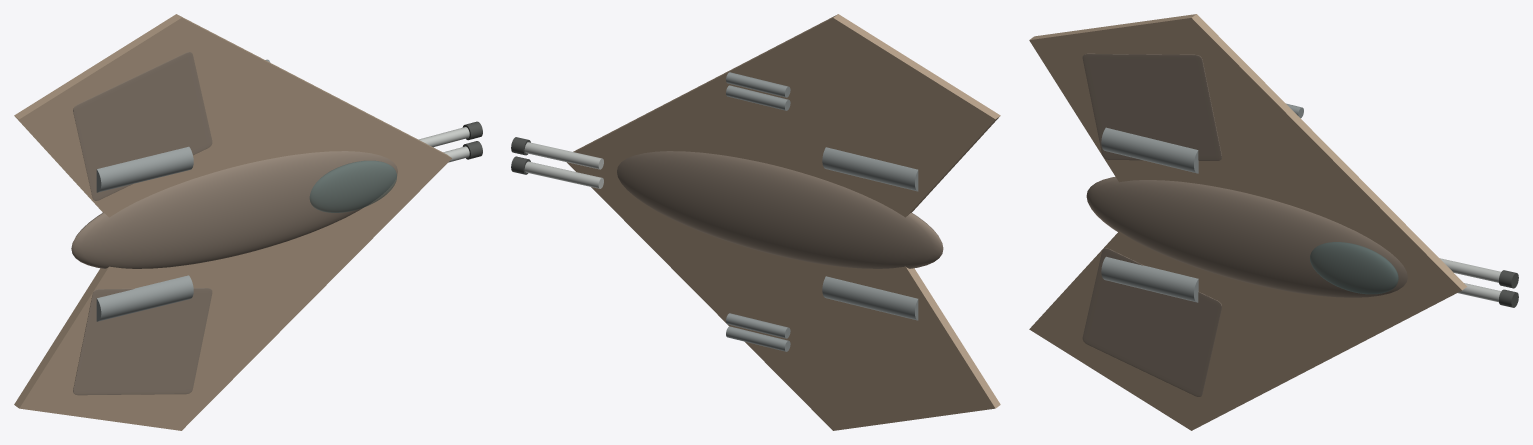
The model's file is d-u29-dominion-stealth-striker-lod1.glb.
The picture shows the model from 3 angles, left to right: view 1: azimuth 30°, elevation 25°; view 2: azimuth 150°, elevation 25°; view 3: azimuth 330°, elevation 25°; orthographic projection.
Parts seen in each view (by area): view 1: flying_wing_planform, flying_wing_core, flying_wing_elevon_1, flying_wing_elevon_-1, flying_wing_canopy, flying_wing_engine_0, flying_wing_engine_1, flying_wing_gun_barrel_1; view 2: flying_wing_planform, flying_wing_core, flying_wing_engine_1, flying_wing_engine_0, flying_wing_gun_barrel_0, flying_wing_gun_barrel_1, flying_wing_-1_tube_1, flying_wing_1_tube_1, flying_wing_-1_tube_2, flying_wing_1_tube_2; view 3: flying_wing_planform, flying_wing_core, flying_wing_elevon_1, flying_wing_elevon_-1, flying_wing_canopy, flying_wing_engine_0, flying_wing_engine_1, flying_wing_gun_barrel_1.
Boxes of the visible parts, left/top/right/bottom form: flying_wing_planform: left=14, top=14, right=451, bottom=430; flying_wing_core: left=71, top=151, right=397, bottom=268; flying_wing_elevon_1: left=73, top=52, right=212, bottom=200; flying_wing_elevon_-1: left=73, top=288, right=212, bottom=395; flying_wing_canopy: left=309, top=160, right=396, bottom=212; flying_wing_engine_0: left=96, top=275, right=193, bottom=321; flying_wing_engine_1: left=96, top=146, right=193, bottom=192; flying_wing_gun_barrel_1: left=418, top=127, right=469, bottom=147; flying_wing_planform: left=567, top=14, right=1000, bottom=430; flying_wing_core: left=617, top=151, right=943, bottom=268; flying_wing_engine_1: left=822, top=147, right=918, bottom=191; flying_wing_engine_0: left=822, top=276, right=918, bottom=320; flying_wing_gun_barrel_0: left=524, top=161, right=603, bottom=188; flying_wing_gun_barrel_1: left=524, top=142, right=603, bottom=169; flying_wing_-1_tube_1: left=726, top=326, right=790, bottom=351; flying_wing_1_tube_1: left=726, top=85, right=790, bottom=110; flying_wing_-1_tube_2: left=726, top=313, right=790, bottom=338; flying_wing_1_tube_2: left=726, top=72, right=790, bottom=97; flying_wing_planform: left=1029, top=14, right=1467, bottom=430; flying_wing_core: left=1086, top=176, right=1407, bottom=297; flying_wing_elevon_1: left=1082, top=53, right=1221, bottom=160; flying_wing_elevon_-1: left=1082, top=248, right=1221, bottom=396; flying_wing_canopy: left=1310, top=242, right=1398, bottom=294; flying_wing_engine_0: left=1101, top=256, right=1198, bottom=302; flying_wing_engine_1: left=1101, top=127, right=1198, bottom=173; flying_wing_gun_barrel_1: left=1439, top=258, right=1500, bottom=282.
Size of what is drawn, in the model's own units: 15.9 by 13.27 by 1.54.
